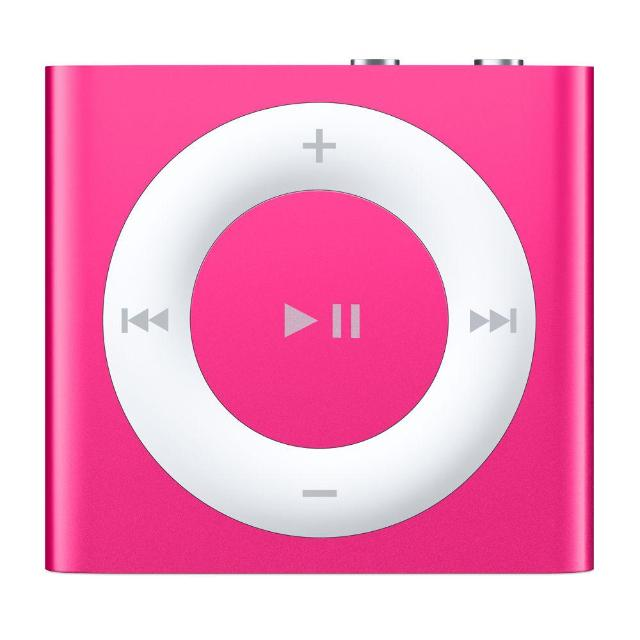Music-Player: (32, 57, 618, 596)
